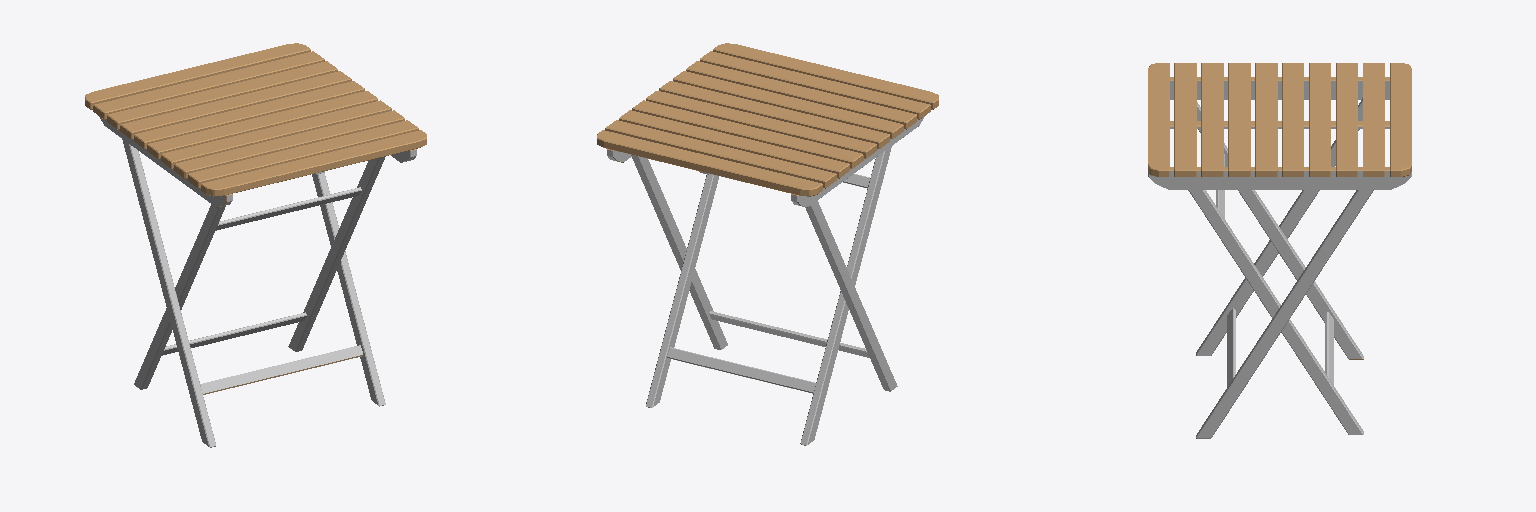
Rendered from table.obj.
3 renders of one model, left to right at view 1: azimuth 30°, elevation 25°; view 2: azimuth 150°, elevation 25°; view 3: azimuth 270°, elevation 25°, orthographic.
Parts seen in each view (by area): view 1: Askholmen, Askholmen.001; view 2: Askholmen, Askholmen.001; view 3: Askholmen, Askholmen.001.
Boxes of the visible parts, x1=… form: Askholmen: x1=85, y1=43, x2=426, y2=394; Askholmen.001: x1=99, y1=116, x2=416, y2=447; Askholmen: x1=597, y1=43, x2=938, y2=445; Askholmen.001: x1=607, y1=116, x2=924, y2=445; Askholmen: x1=1148, y1=63, x2=1411, y2=438; Askholmen.001: x1=1148, y1=81, x2=1411, y2=438.
Size of the model in its own units: 1.86 by 2.25 by 1.93.